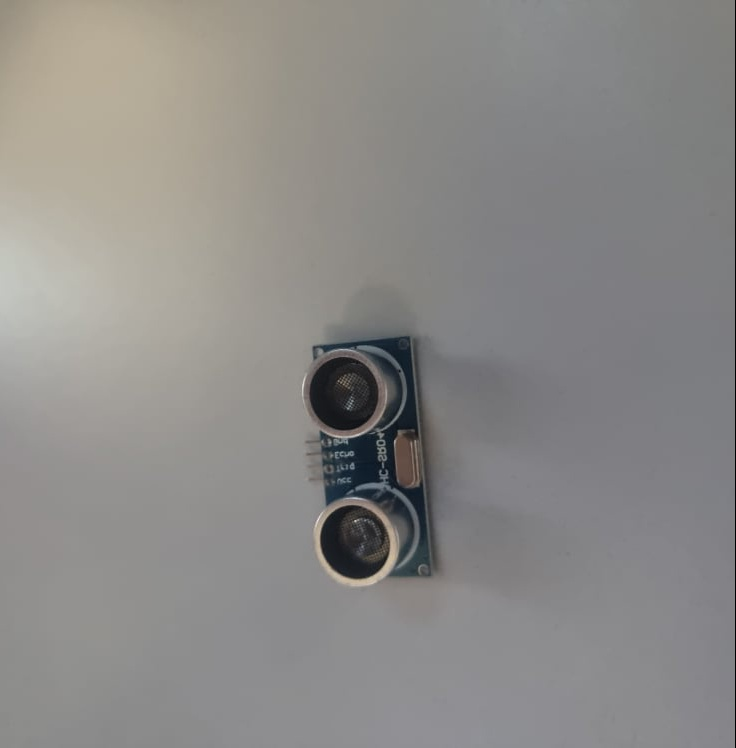SENSOR: (300, 332, 435, 588)
